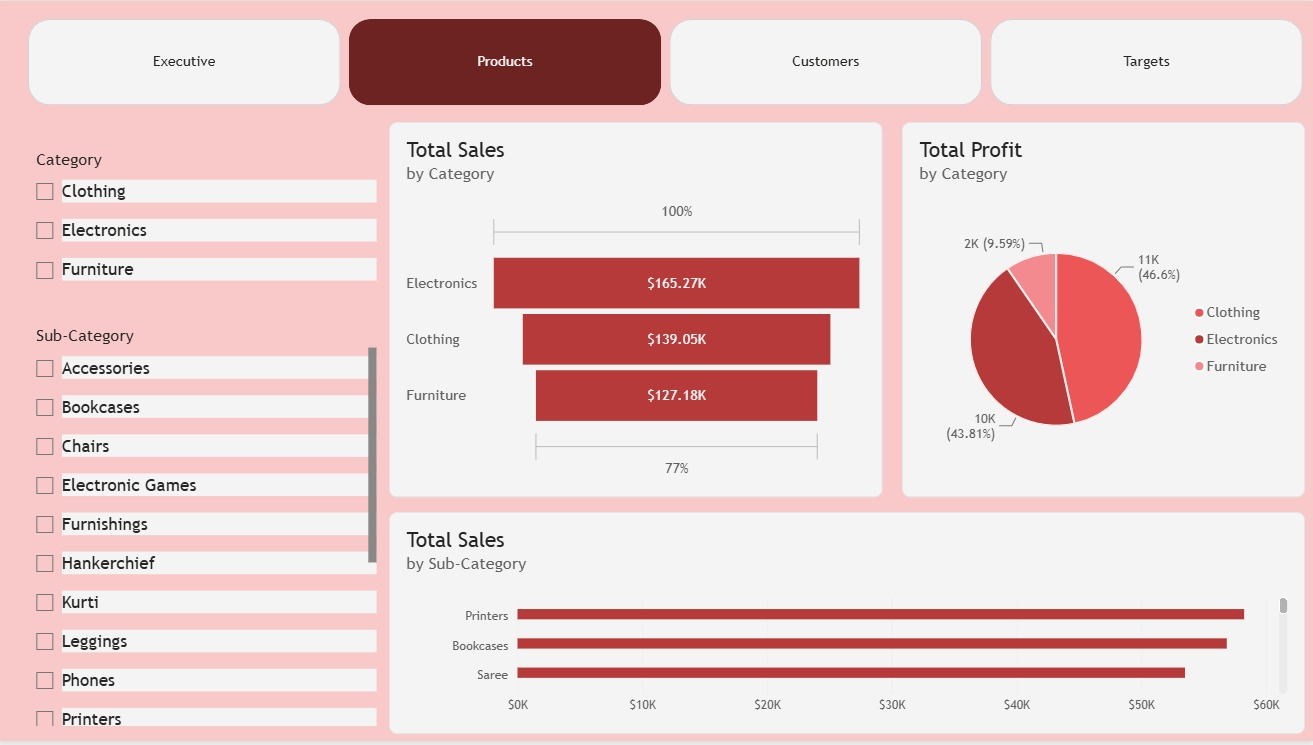

This screenshot's page, from the dashboard's own definition file:
{"tool":"powerbi","page":{"name":"Products","canvas":[1280,720],"ordinal":1},"visuals":[{"type":"funnel","fields":{"Category":["Category.Category"],"Y":["Calendar.Total Sales"]},"box":[380.3,117.7,479.5,364.7],"z":0},{"type":"pieChart","fields":{"Category":["Category.Category"],"Y":["Calendar.Total Profit"]},"box":[879.3,117.7,392,364.7],"z":1000},{"type":"clusteredBarChart","fields":{"Category":["Order Details.Sub-Category","Category.Category"],"Y":["Calendar.Total Sales"]},"box":[380.3,497,890.9,215.9],"z":2000},{"type":"slicer","fields":{"Values":["Sales target.Category"]},"box":[28.7,145.3,339.1,157],"z":3000},{"type":"slicer","fields":{"Values":["Order Details.Sub-Category"]},"box":[28.7,315.7,339.1,389.3],"z":4000},{"type":"pageNavigator","box":[29.2,17.5,1242.1,84.6],"z":5000}]}

Visuals, with their boxes in screenshot pixels (x1, y1, x2, y2), scaled from the page's 1280x720 canvas onto the 1313x745 screenshot:
funnel - Category.Category x Calendar.Total Sales: box(390, 122, 882, 499)
pieChart - Category.Category x Calendar.Total Profit: box(902, 122, 1304, 499)
clusteredBarChart - Order Details.Sub-Category x Category.Category: box(390, 514, 1304, 738)
slicer - Sales target.Category: box(29, 150, 377, 313)
slicer - Order Details.Sub-Category: box(29, 327, 377, 729)
pageNavigator: box(30, 18, 1304, 106)
